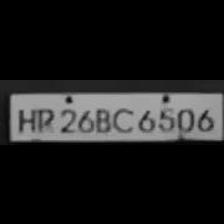0: (174, 103, 194, 131)
2: (55, 104, 77, 134)
5: (156, 104, 174, 132)
6: (133, 104, 155, 132), (194, 104, 216, 132), (75, 104, 93, 132)
B: (92, 104, 110, 132)
C: (110, 104, 132, 132)
H: (13, 104, 34, 132)
P: (33, 104, 55, 132)
